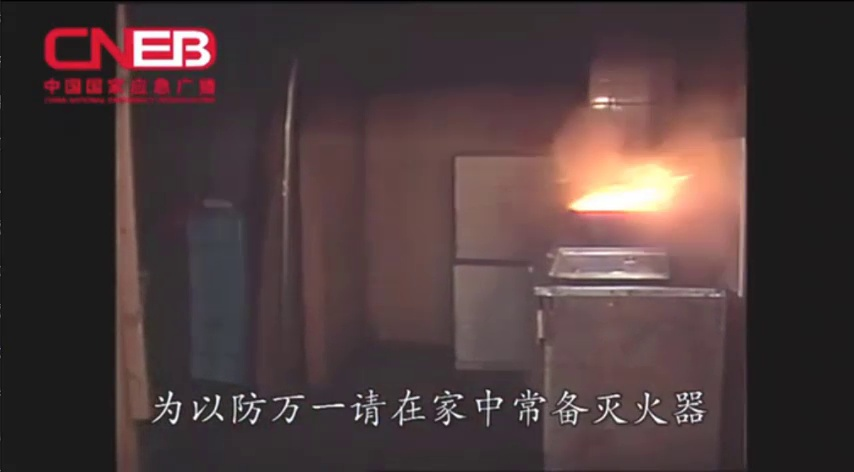fire: (559, 151, 697, 221)
